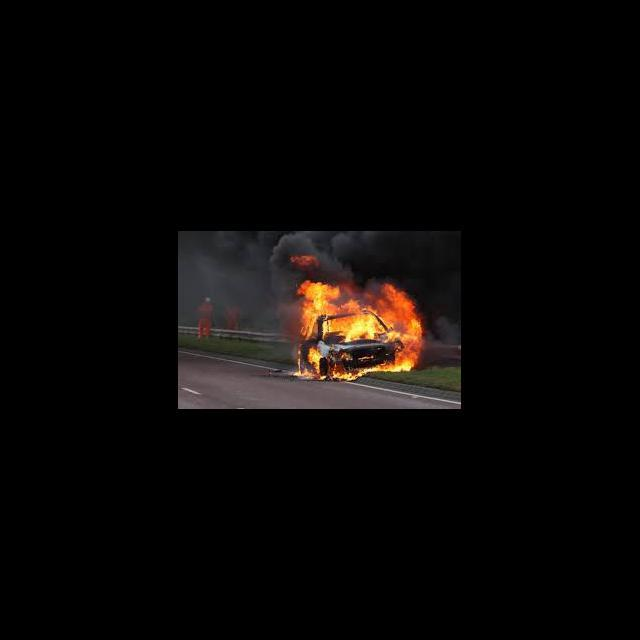Fire: (292, 275, 424, 382), (290, 253, 320, 269)
